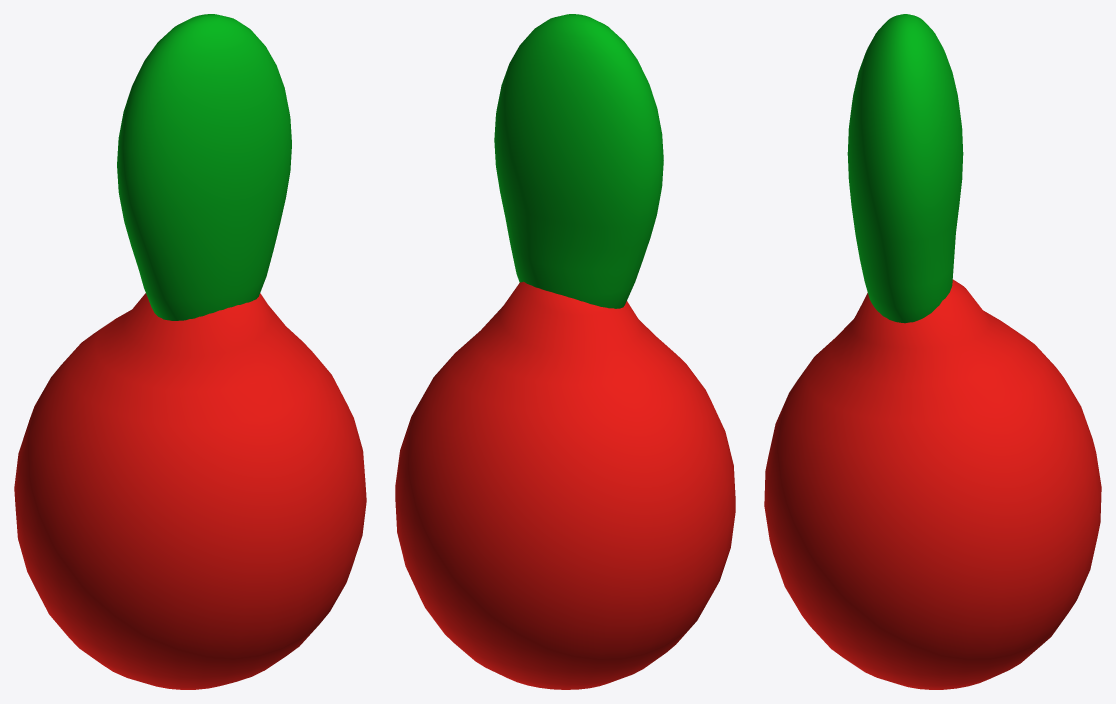
File: PikminSeed.fbx
3 views of the same model, side by side, from view 1: azimuth 30°, elevation 25°; view 2: azimuth 150°, elevation 25°; view 3: azimuth 270°, elevation 25° (orthographic). The views are drawn at different scales.
Visible parts, largest first — view 1: SeedBase; view 2: SeedBase; view 3: SeedBase.
Part boxes in pixels (left/top/right/bottom): SeedBase: left=14, top=14, right=366, bottom=689; SeedBase: left=395, top=14, right=735, bottom=689; SeedBase: left=764, top=14, right=1101, bottom=689.
Bounding box in the file's own units: 0.5112 × 1.06 × 0.4945.
